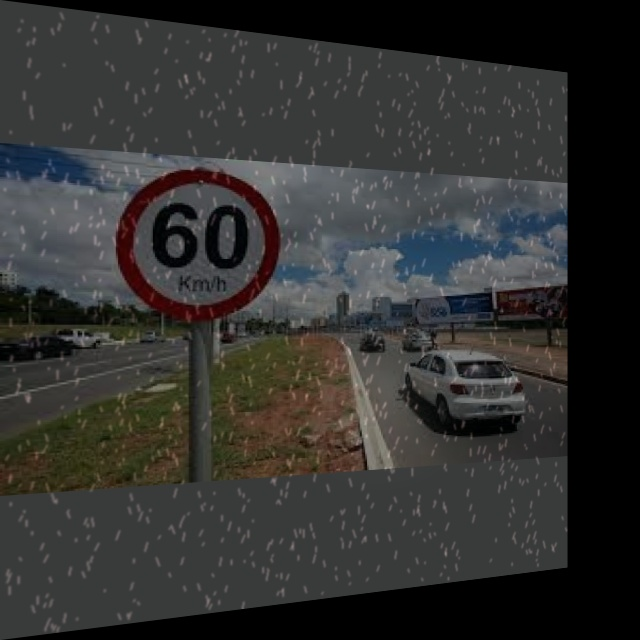Speed_Limit_60: (119, 159, 275, 320)
